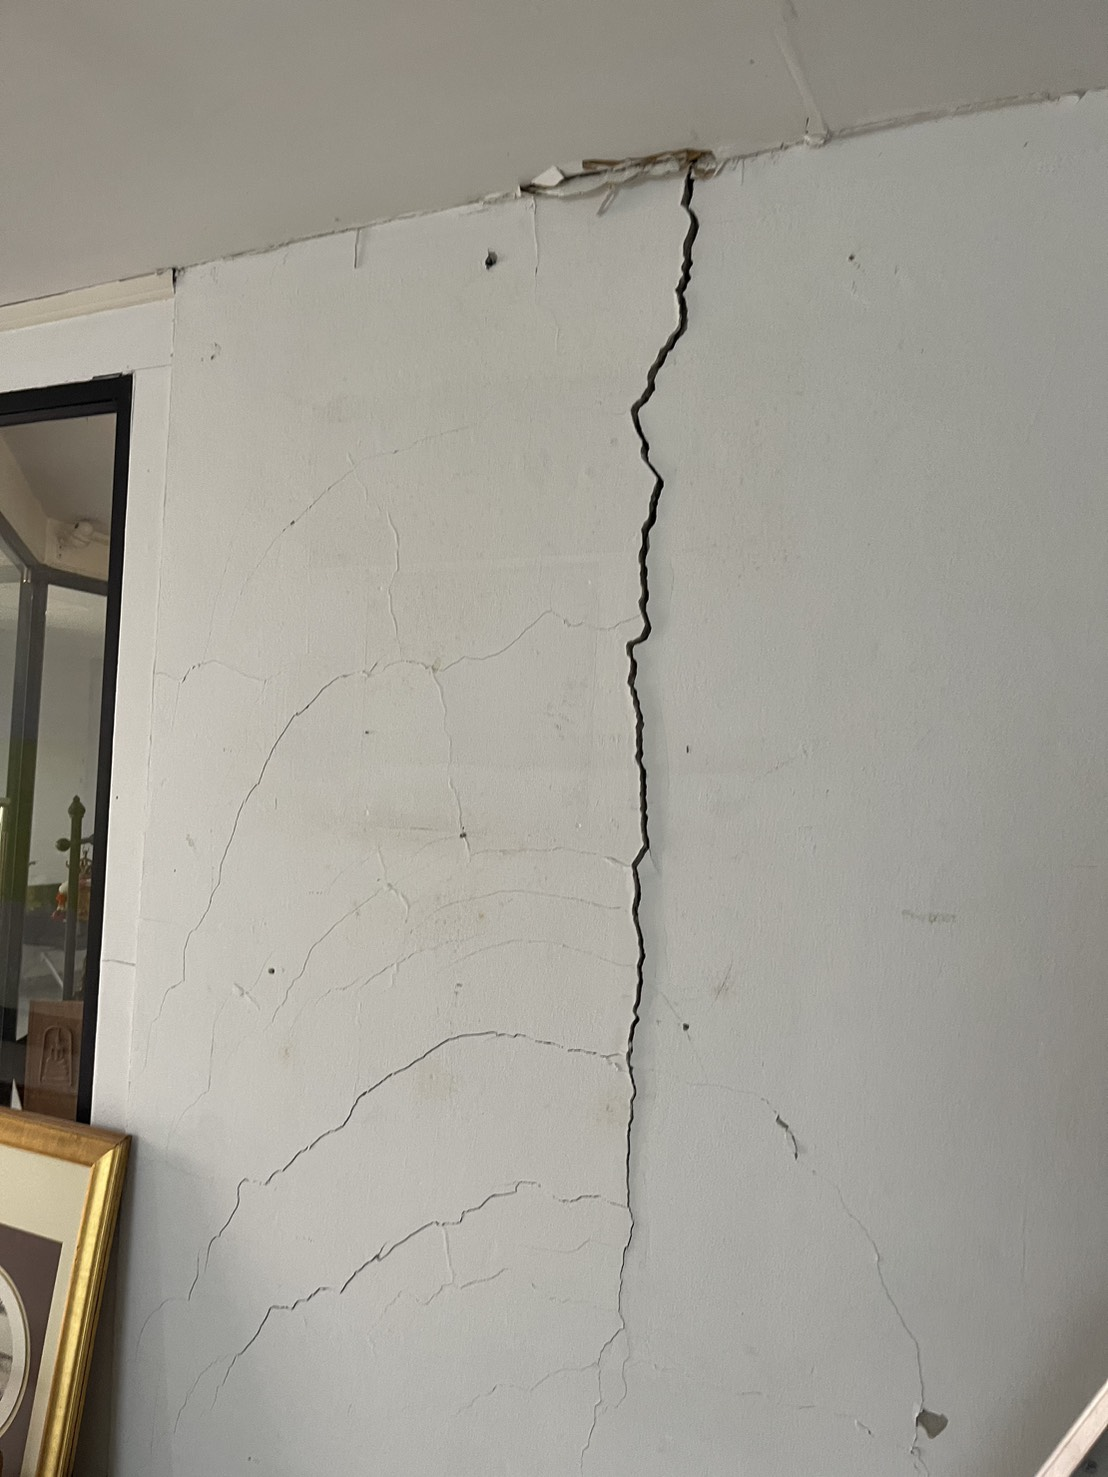Medium: (537, 192, 755, 1113)
